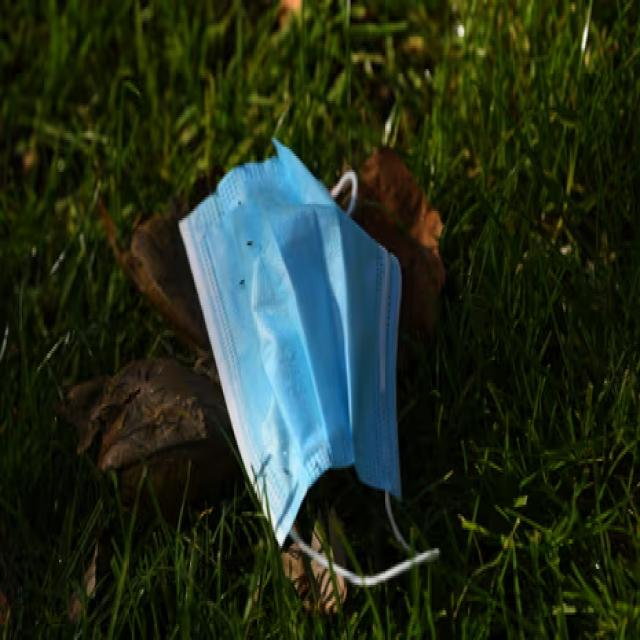face_mask: (169, 132, 430, 527)
